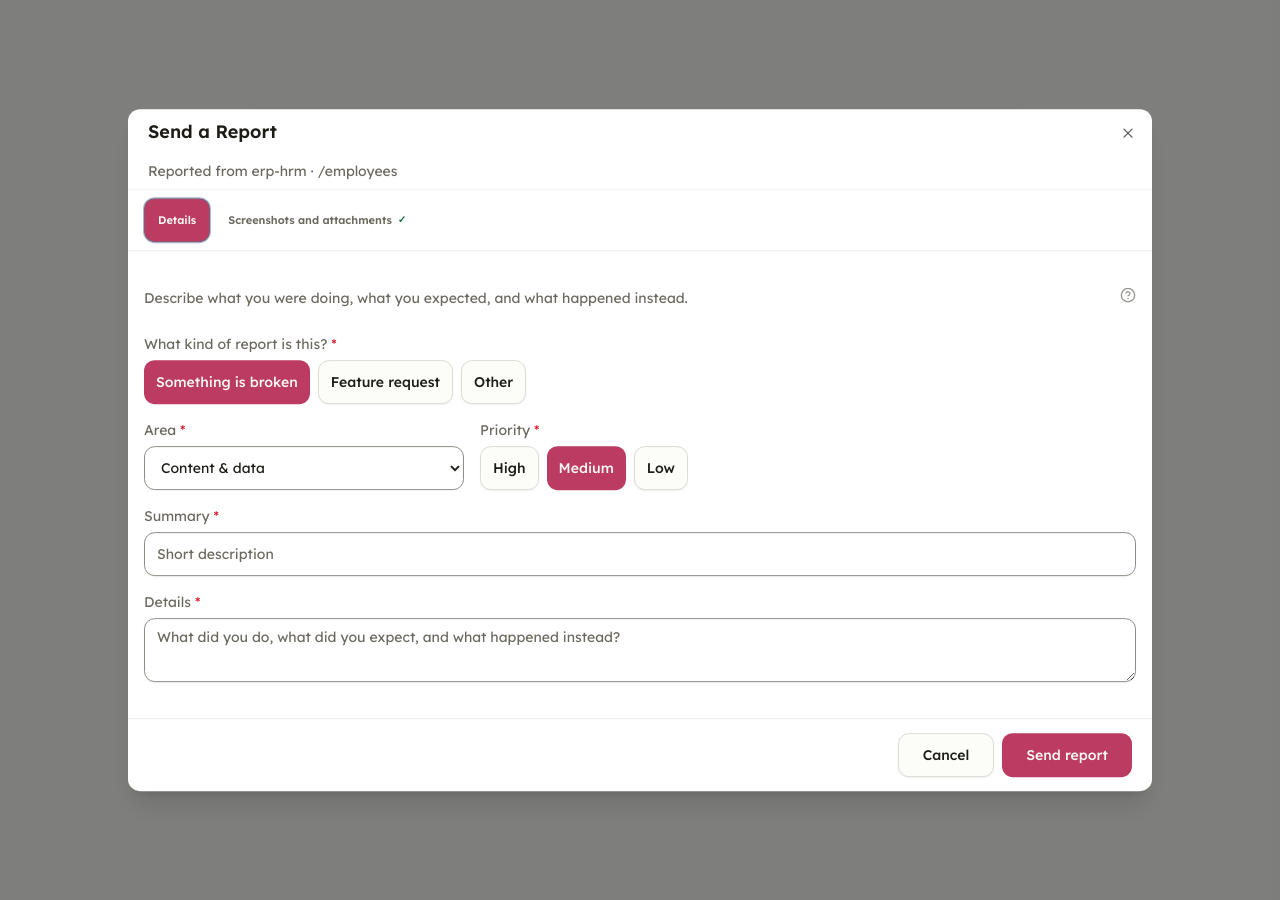
Test: ReportDialog › files the report and shows its reference and the follow-up notice
The width and height of the screenshot is (1280, 900).
Expected: the text "Reported from erp-hrm · /employees" is shown, [148, 162, 398, 180]
Click the button "Send report" at (1067, 755), box [1002, 733, 1132, 777]
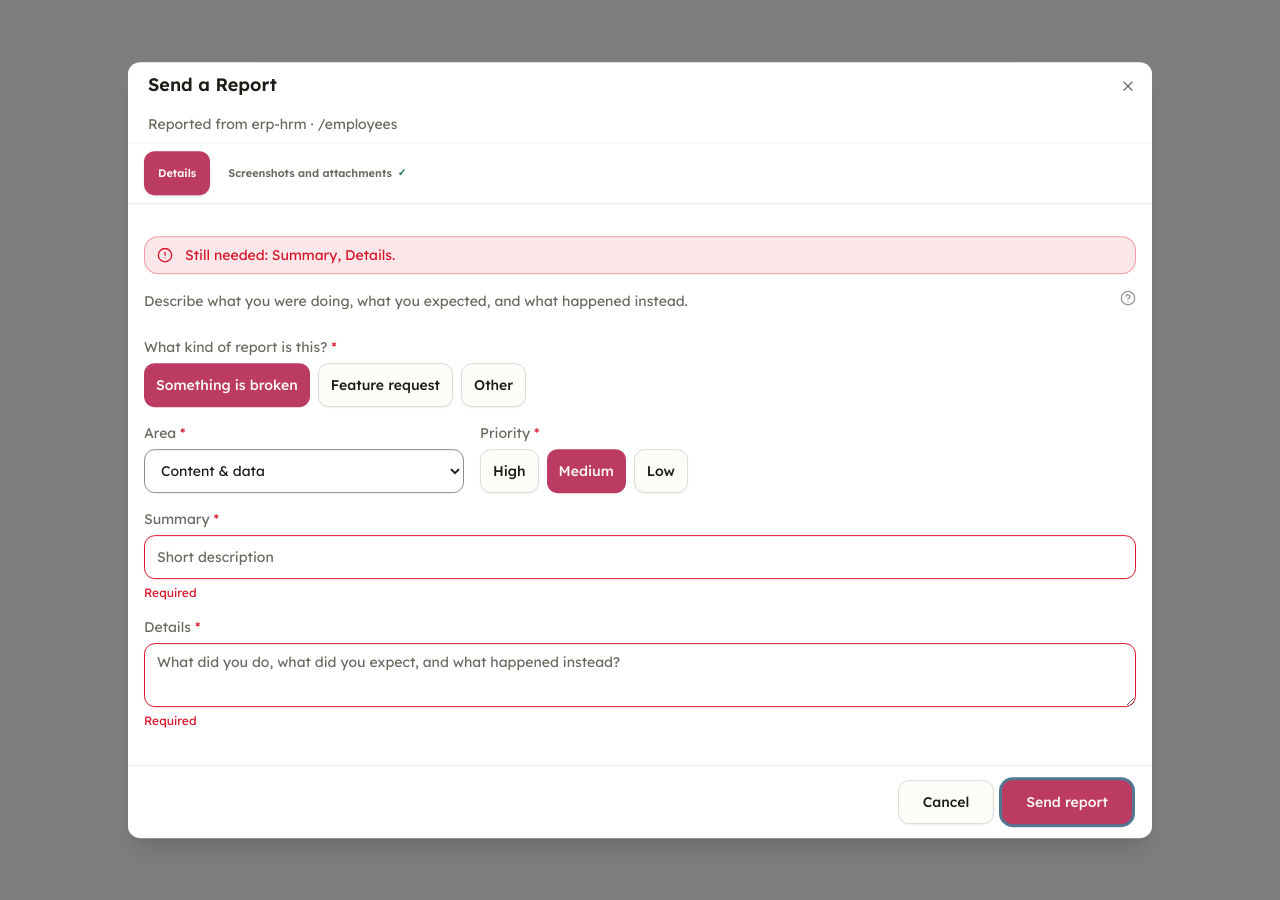
Expected: the text "Still needed: Summary, Details." is shown, [185, 245, 395, 265]
Type "Save fails" into the field named "Summary" at (640, 557), box [144, 535, 1136, 579]
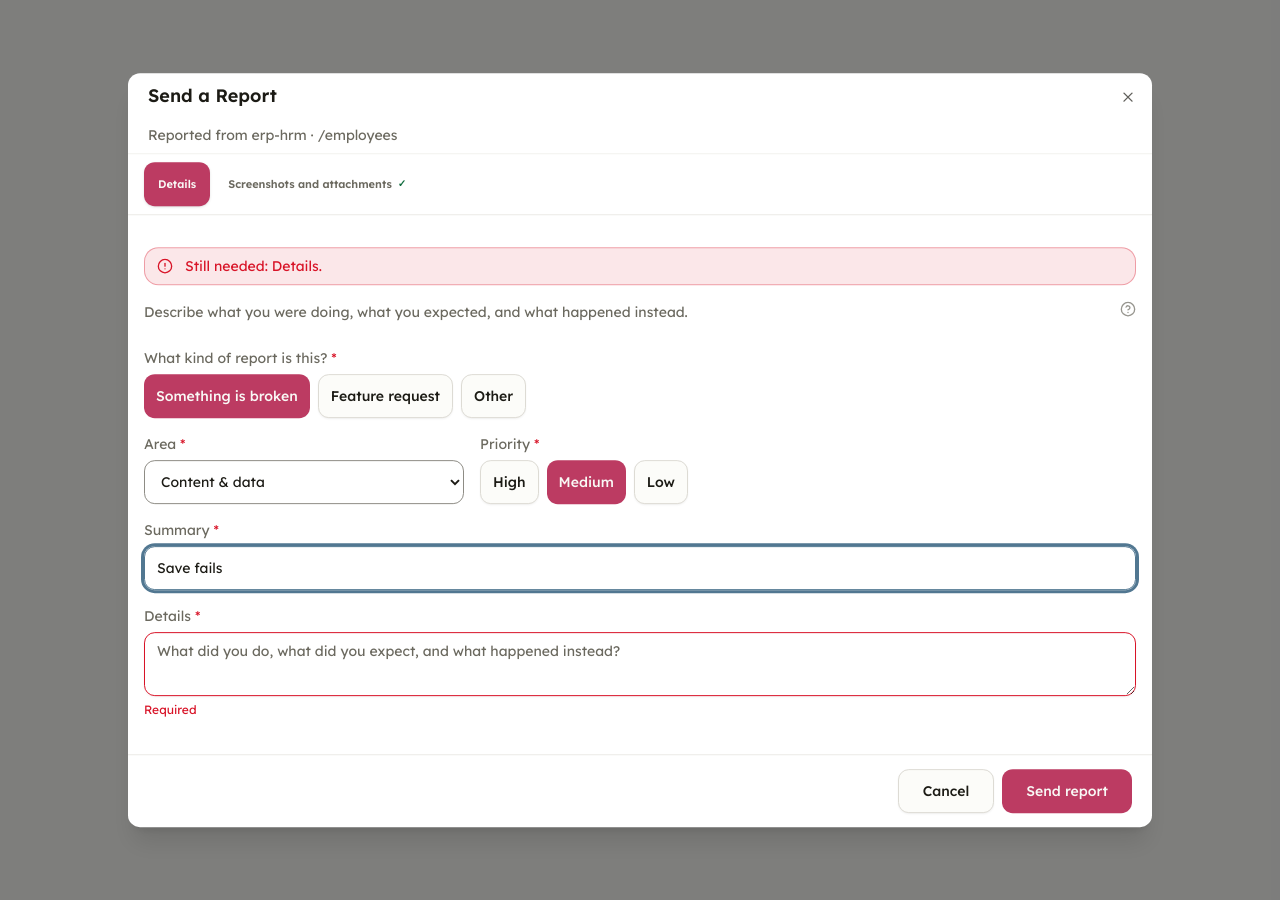
Type "Nothing happens on Save." into the text box named "Details" at (640, 664), box [144, 632, 1136, 696]
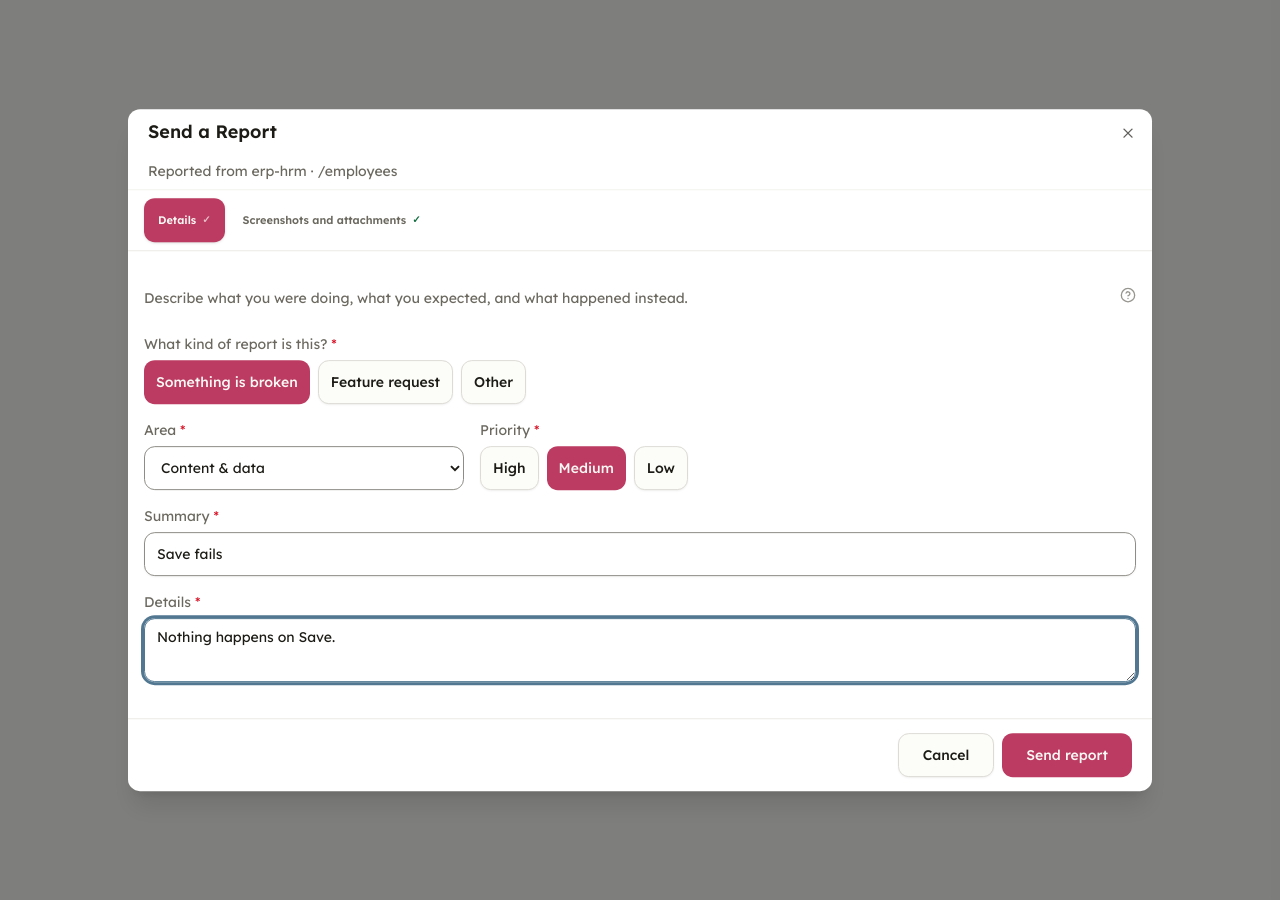
Click the radio button labelled "High" at (509, 468), box [480, 446, 539, 490]
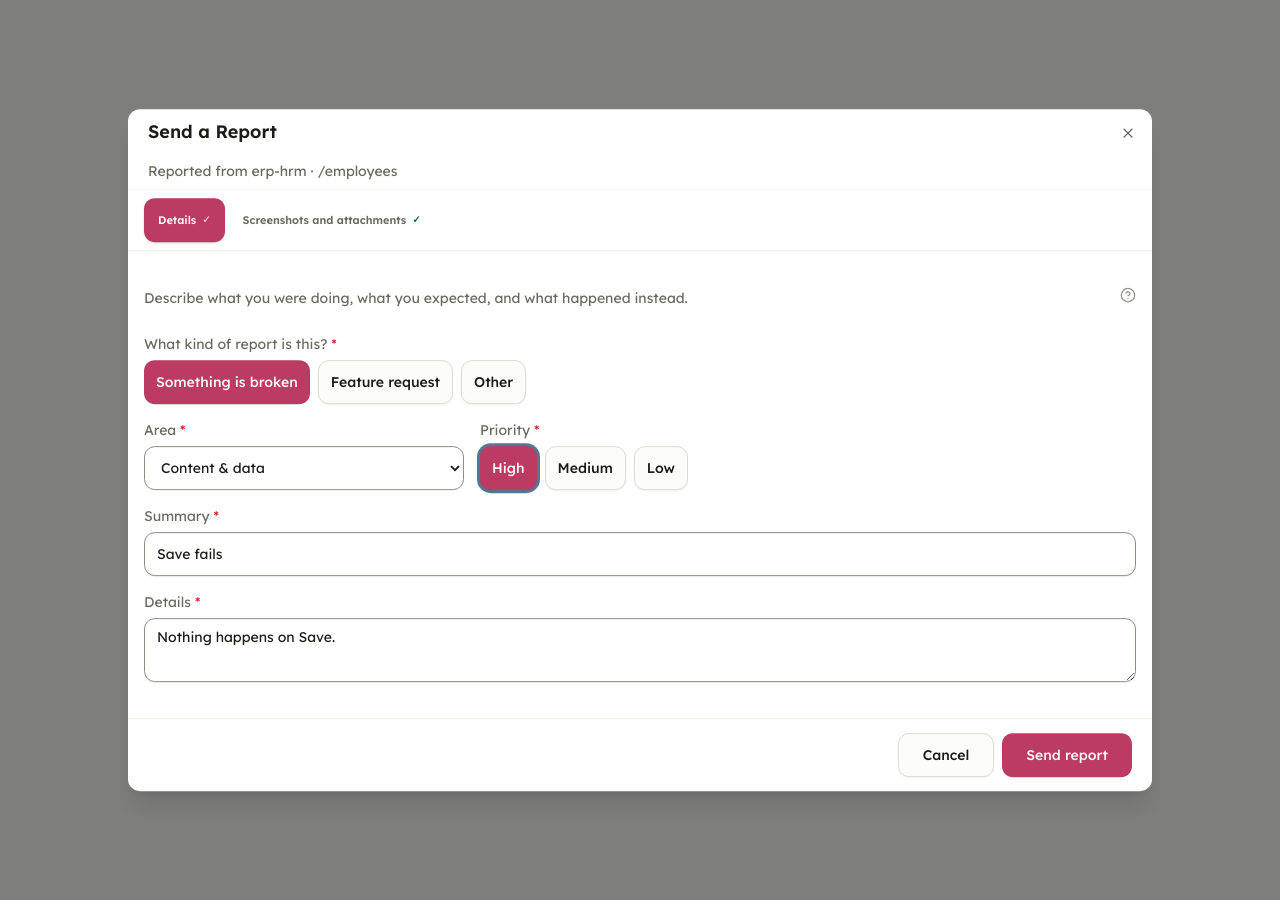
Click the button "Send report" at (1067, 755), box [1002, 733, 1132, 777]
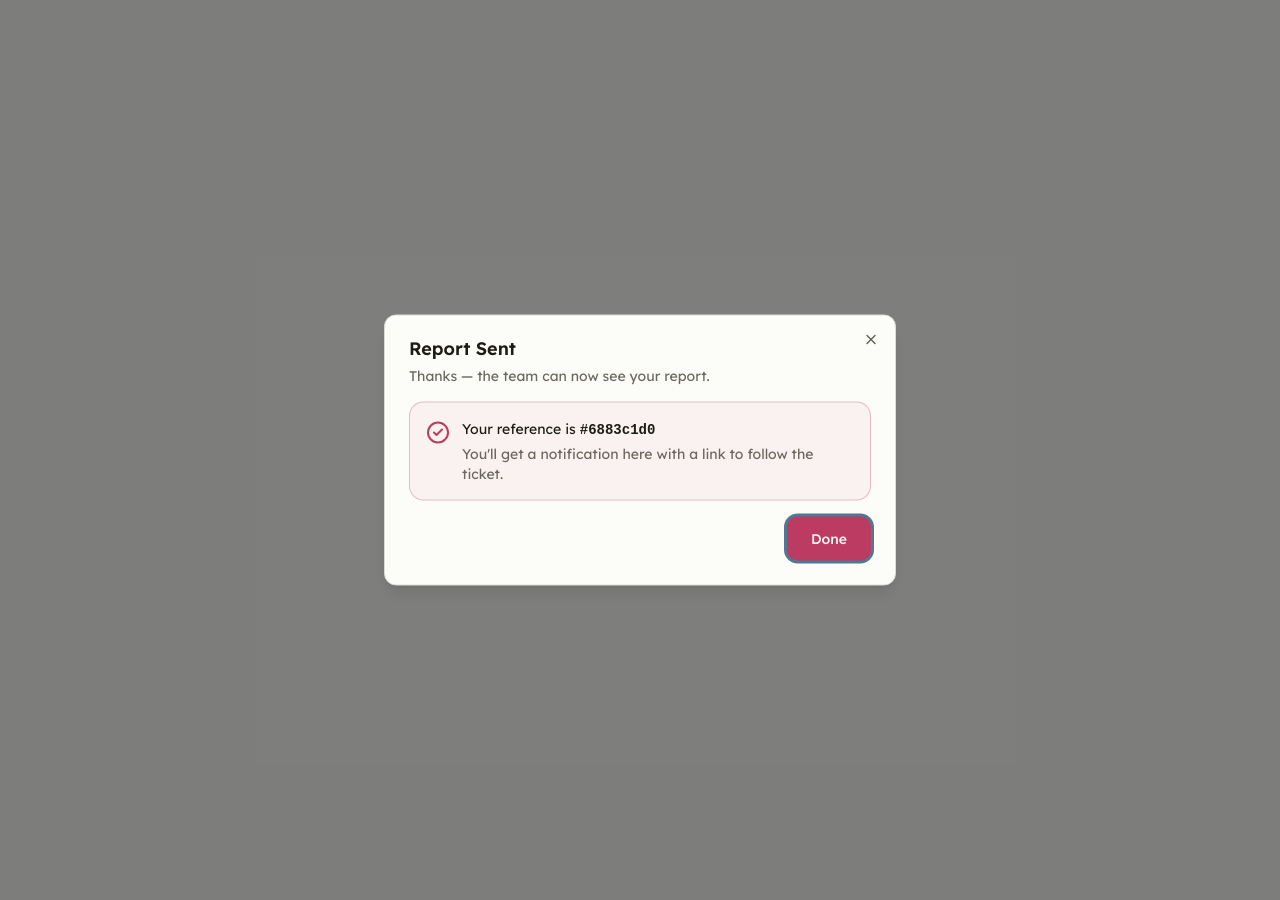
Expected: the heading "Report Sent" is shown, [409, 336, 516, 360]
Expected: the text "#6883c1d0" is shown, [580, 422, 655, 438]
Expected: the text "You'll get a notification here with a link to follow the ticket." is shown, [462, 444, 854, 484]
